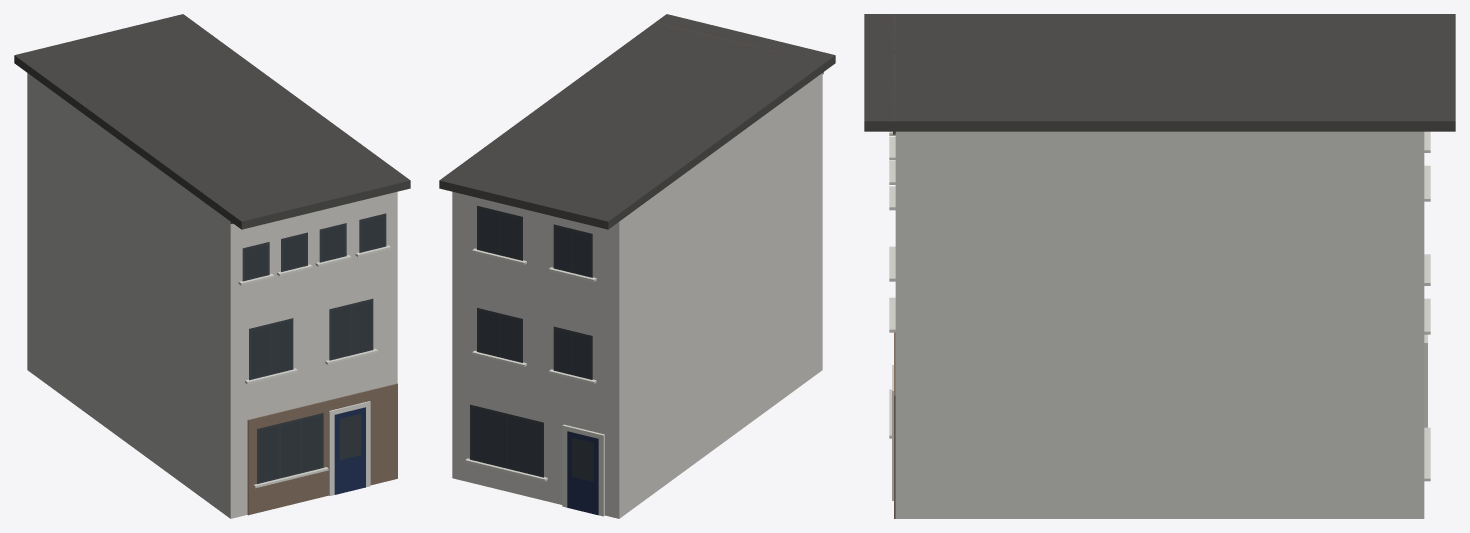
File: nw-nsn-white__white__3__flat__long__solid__f0d0__mirror.glb
The picture shows the model from 3 angles, left to right: view 1: azimuth 30°, elevation 25°; view 2: azimuth 150°, elevation 25°; view 3: azimuth 270°, elevation 25°; orthographic projection. The views are drawn at different scales.
Visible parts, largest first — view 1: nw-nsn-white__white__3__flat__long__solid__f0d0__mirror; view 2: nw-nsn-white__white__3__flat__long__solid__f0d0__mirror; view 3: nw-nsn-white__white__3__flat__long__solid__f0d0__mirror.
Part boxes in pixels (x1,y1,x2,y2): nw-nsn-white__white__3__flat__long__solid__f0d0__mirror: (14,14,410,518); nw-nsn-white__white__3__flat__long__solid__f0d0__mirror: (439,14,835,518); nw-nsn-white__white__3__flat__long__solid__f0d0__mirror: (864,14,1455,518).
Bounding box in the file's own units: 4.85 × 8.4 × 11.3.
